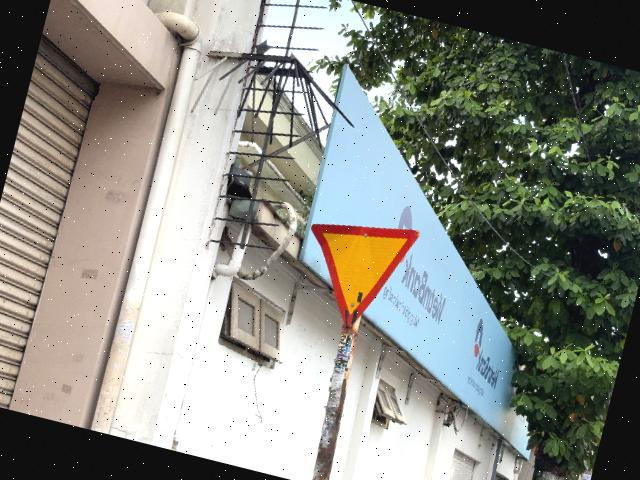giao-nhau-voi-duong-uu-tien: (286, 204, 422, 341)
